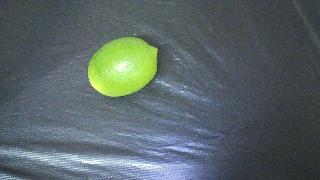LOCAL: (88, 37, 158, 97)
